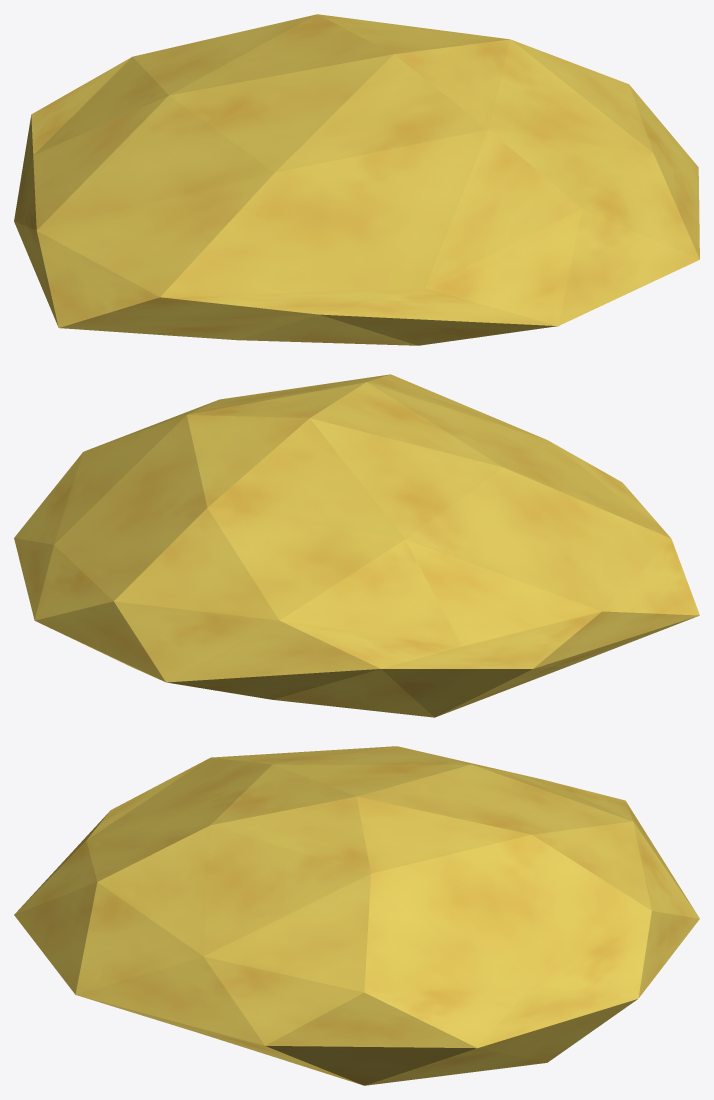
Rendered from Island.glb.
The picture shows the model from 3 angles, top to bottom: view 1: azimuth 30°, elevation 25°; view 2: azimuth 150°, elevation 25°; view 3: azimuth 270°, elevation 25°; orthographic projection. The views are drawn at different scales.
Visible parts, largest first — view 1: Icosphere; view 2: Icosphere; view 3: Icosphere.
Boxes of the visible parts, x1,y1,x2,y2 form: Icosphere: [14, 14, 699, 345]; Icosphere: [14, 374, 699, 717]; Icosphere: [14, 746, 699, 1085].
Size of the model in its own units: 2.14 by 0.7193 by 2.13.
Materials: 1 (1 with a texture image).
